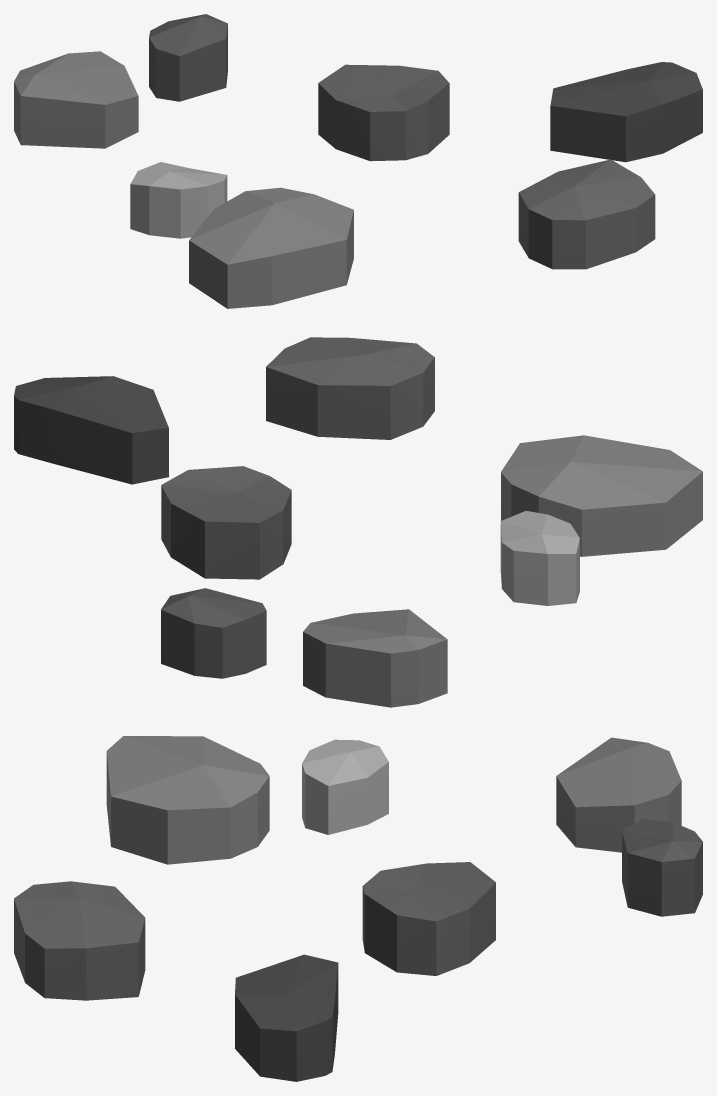
File: Stone_D.fbx
3 views of the same model, one above another, from view 1: azimuth 30°, elevation 25°; view 2: azimuth 150°, elevation 25°; view 3: azimuth 270°, elevation 25° (orthographic). The views are drawn at different scales.
Parts seen in each view (by area): view 1: Stone_D; view 2: Stone_D; view 3: Stone_D.
Part boxes in pixels (x1,y1,x2,y2): Stone_D: (14, 14, 702, 308); Stone_D: (14, 337, 702, 707); Stone_D: (14, 736, 702, 1081).
Size of the model in its own units: 210 by 21.52 by 205.
